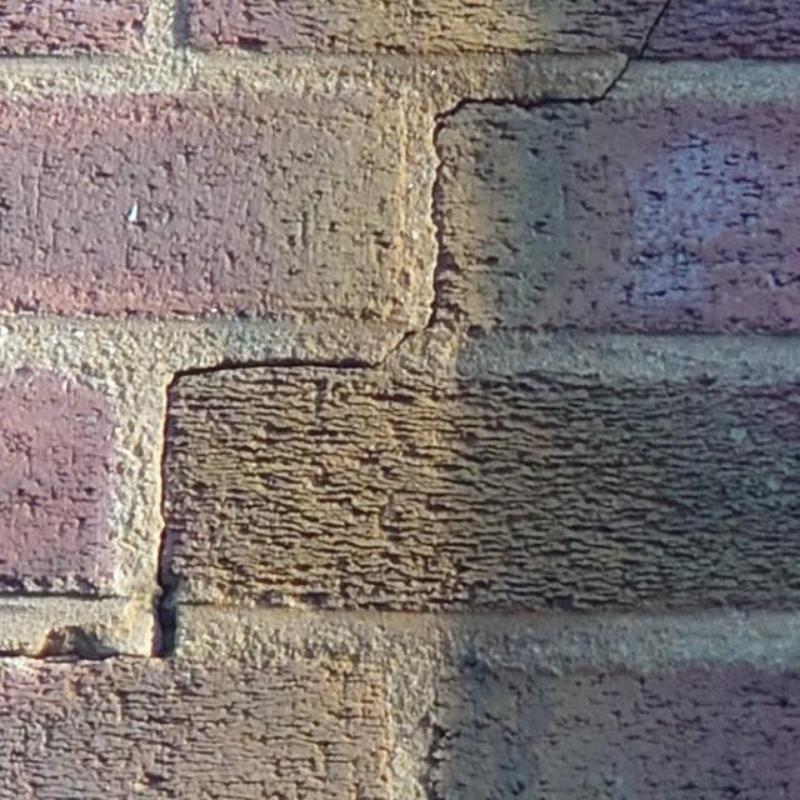pothole: (152, 331, 418, 658), (426, 0, 672, 331), (0, 649, 149, 666)
